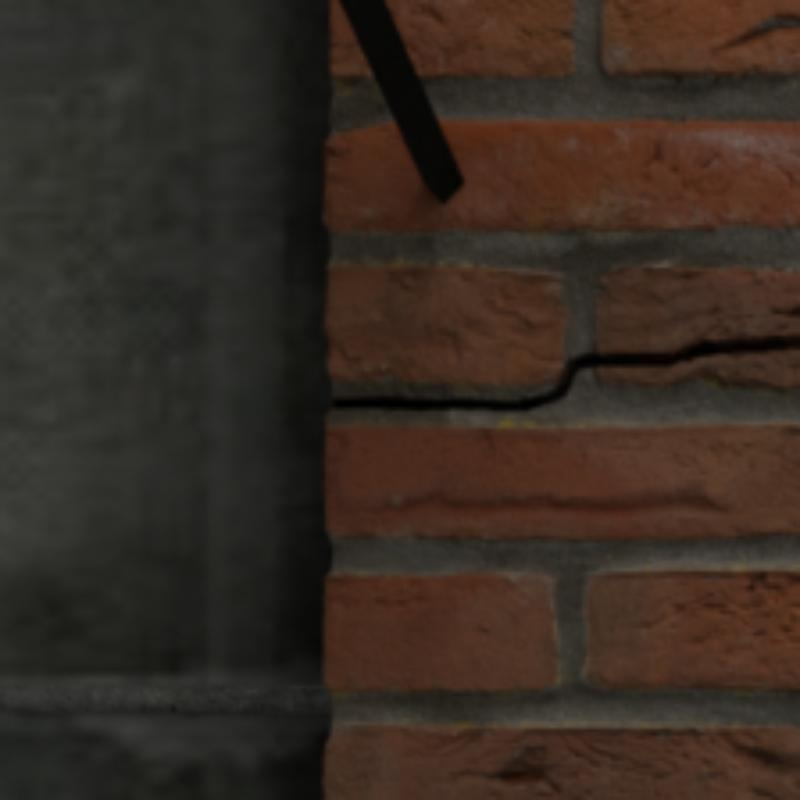pothole: (336, 336, 796, 407)
